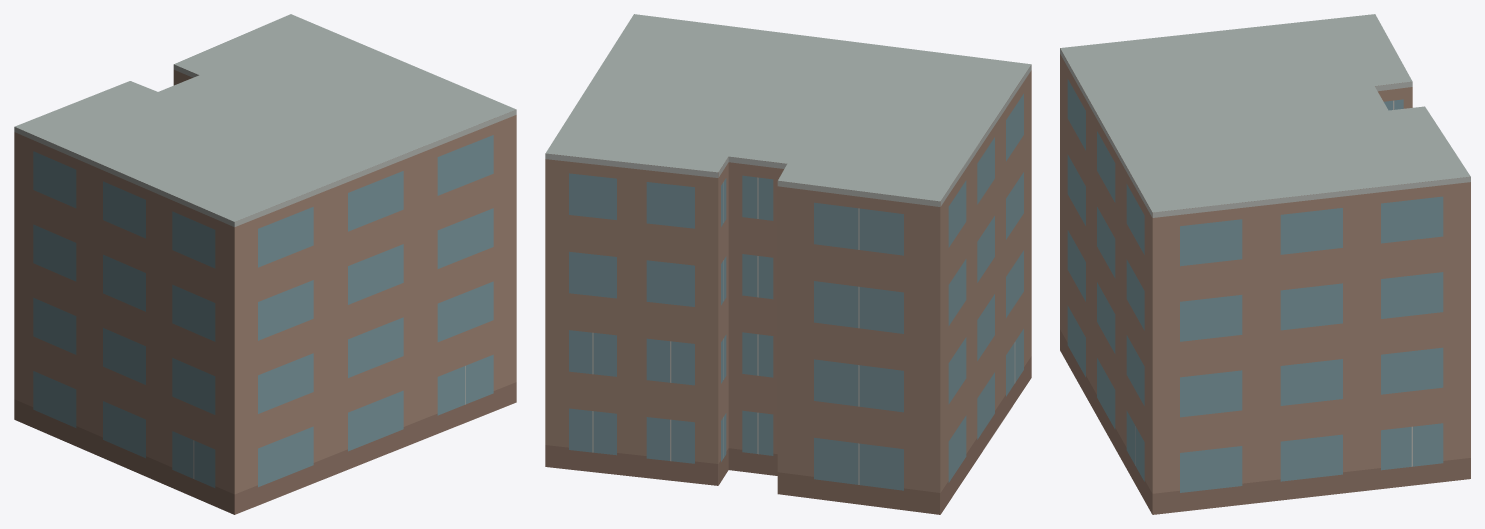
The model's file is survey-upis-32812528.glb.
3 renders of one model, left to right at view 1: azimuth 30°, elevation 25°; view 2: azimuth 150°, elevation 25°; view 3: azimuth 270°, elevation 25°, orthographic. The views are drawn at different scales.
Visible parts, largest first — view 1: survey-upis-32812528.tmp; view 2: survey-upis-32812528.tmp; view 3: survey-upis-32812528.tmp.
Boxes of the visible parts, x1,y1,x2,y2 form: survey-upis-32812528.tmp: [14, 14, 516, 514]; survey-upis-32812528.tmp: [545, 14, 1031, 514]; survey-upis-32812528.tmp: [1060, 14, 1470, 514].
Size of the model in its own units: 19.03 by 13.5 by 16.63.
